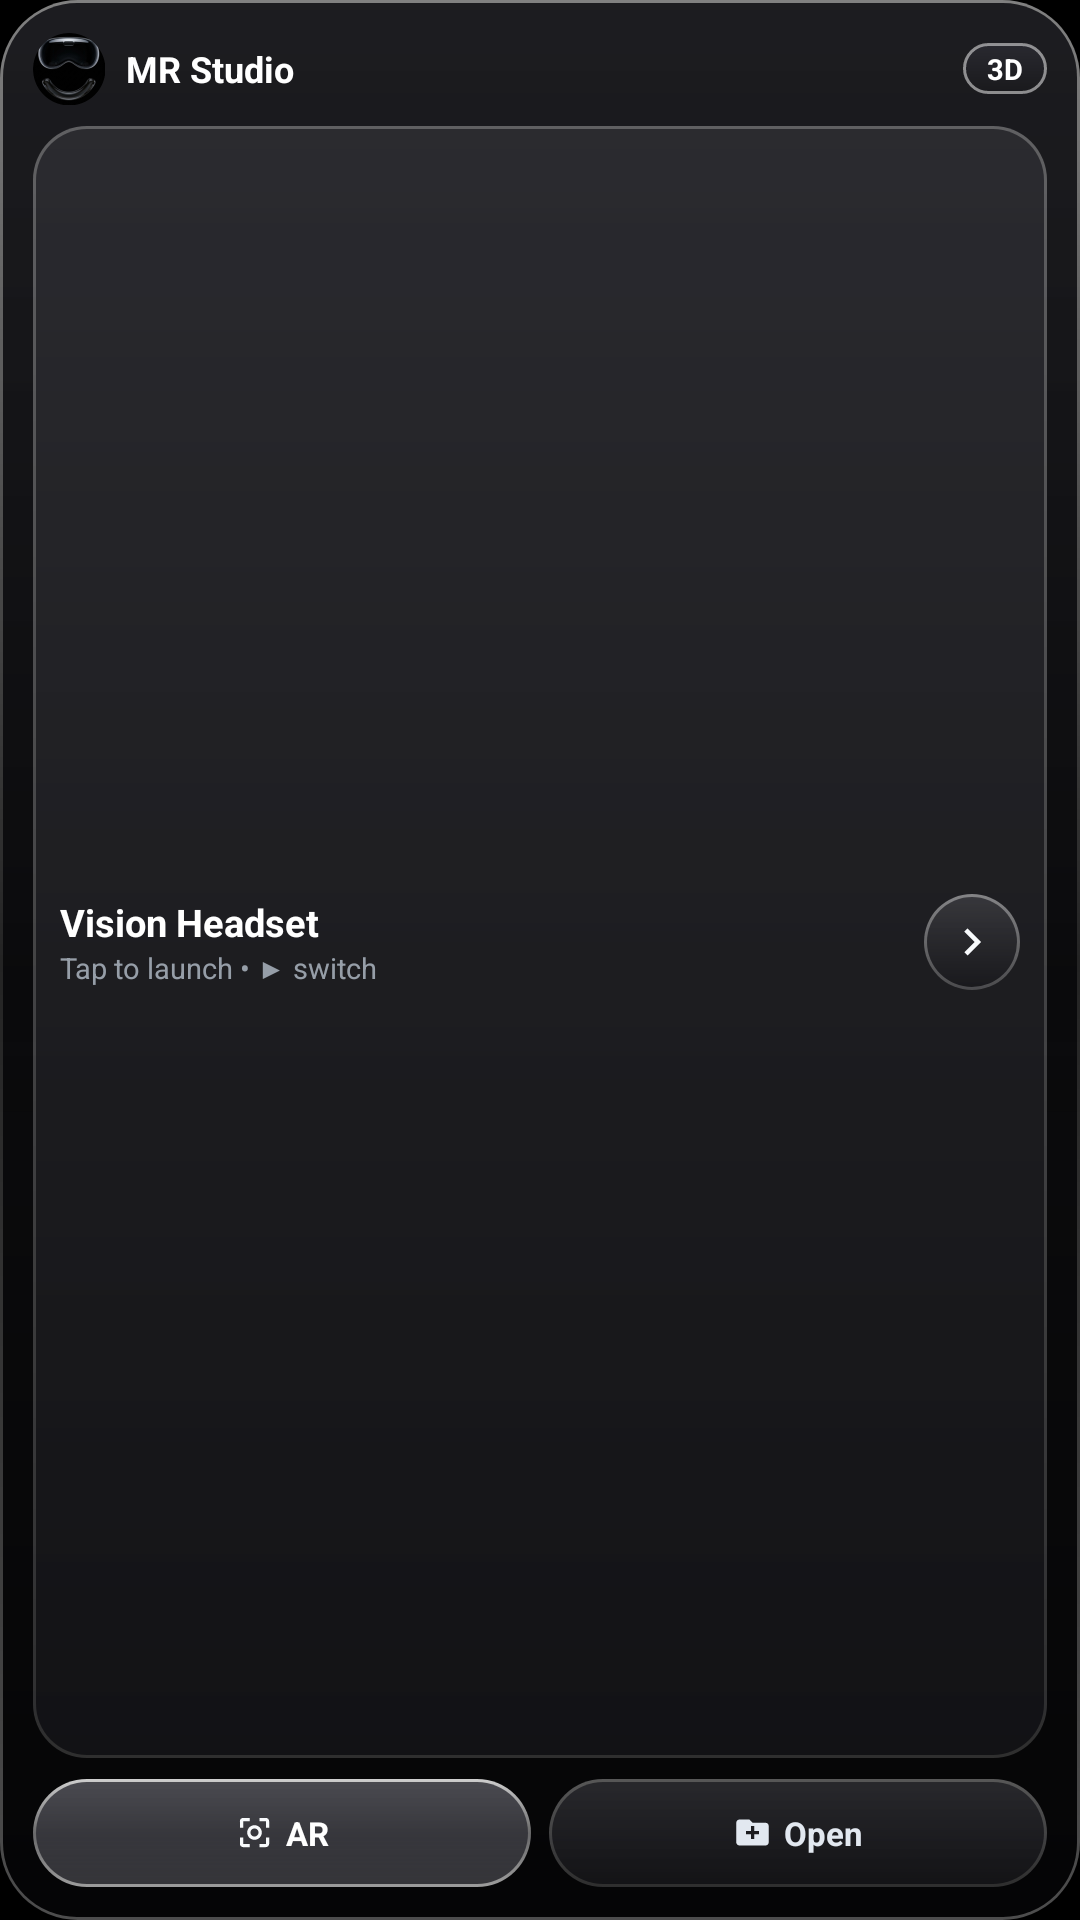

Icons on this 1080 x 1920 Android screen, each with the point to tap as (x=x, y=y):
Next 3D model preset: (x=972, y=942)
